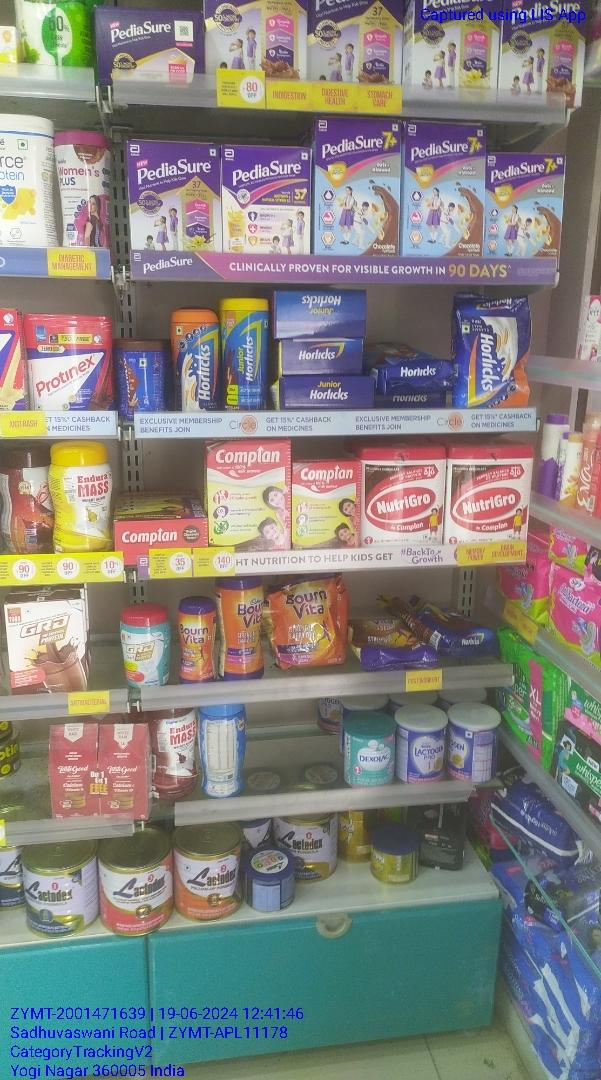PROTINEX_CHOCOLATE_400_G_JAR: (29, 316, 112, 412)
